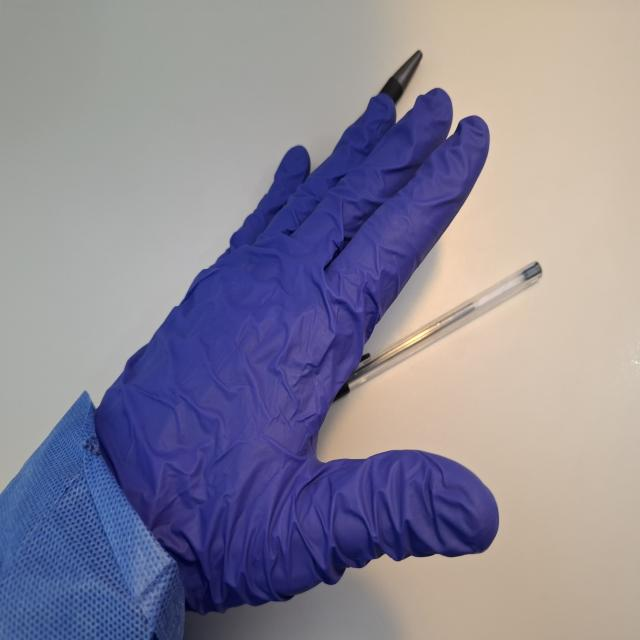glove_on: (84, 85, 502, 620)
